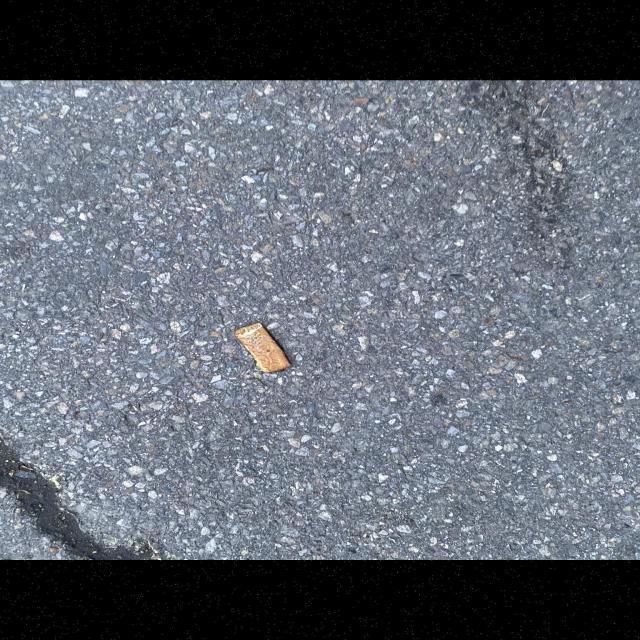other waste: (233, 322, 292, 372)
